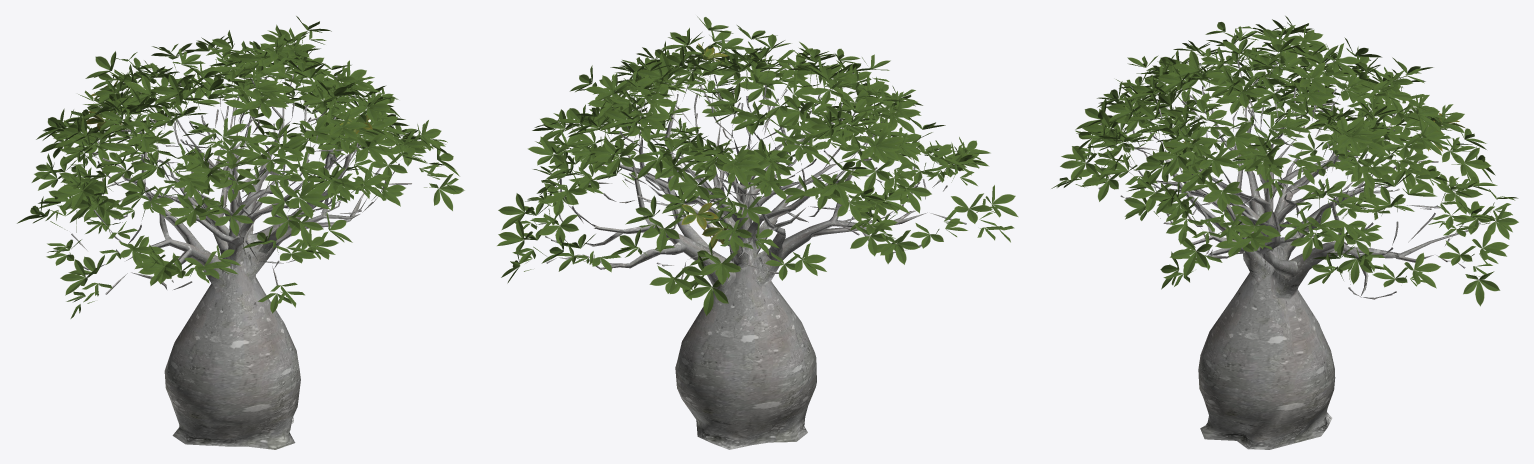
The model's file is baobab.glb.
3 views of the same model, side by side, from view 1: azimuth 30°, elevation 25°; view 2: azimuth 150°, elevation 25°; view 3: azimuth 270°, elevation 25° (orthographic).
Parts seen in each view (by area): view 1: Adansonia_digitata_HD; view 2: Adansonia_digitata_HD; view 3: Adansonia_digitata_HD.
Boxes of the visible parts, bbox=[...] form: Adansonia_digitata_HD: bbox=[17, 16, 464, 449]; Adansonia_digitata_HD: bbox=[497, 16, 1018, 449]; Adansonia_digitata_HD: bbox=[1051, 16, 1518, 449].
Size of the model in its own units: 7 by 5.98 by 6.84.
7 materials, 7 textured.
